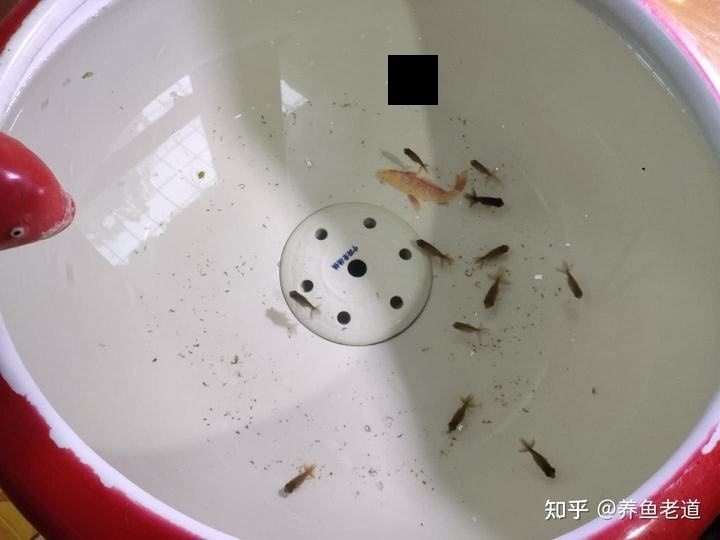fry: (369, 166, 460, 210), (514, 430, 565, 486), (436, 385, 481, 442), (472, 269, 520, 316), (459, 182, 518, 218), (458, 152, 511, 191), (267, 459, 317, 495), (449, 313, 497, 349), (468, 229, 516, 265), (413, 233, 455, 274), (284, 283, 321, 322), (562, 259, 593, 305), (402, 142, 433, 172)
